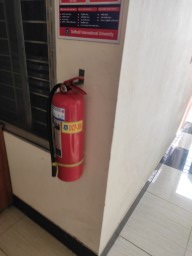fire_extinguisher: (55, 139, 137, 190)
